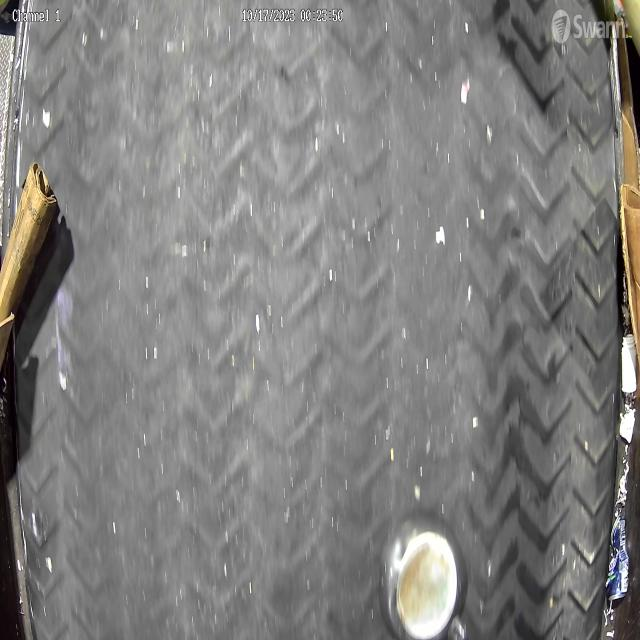can: (606, 514, 630, 602)
